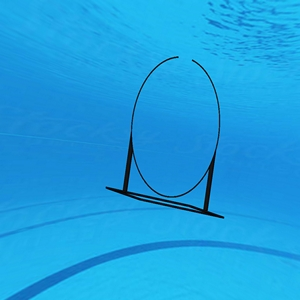circle: (104, 55, 226, 222)
